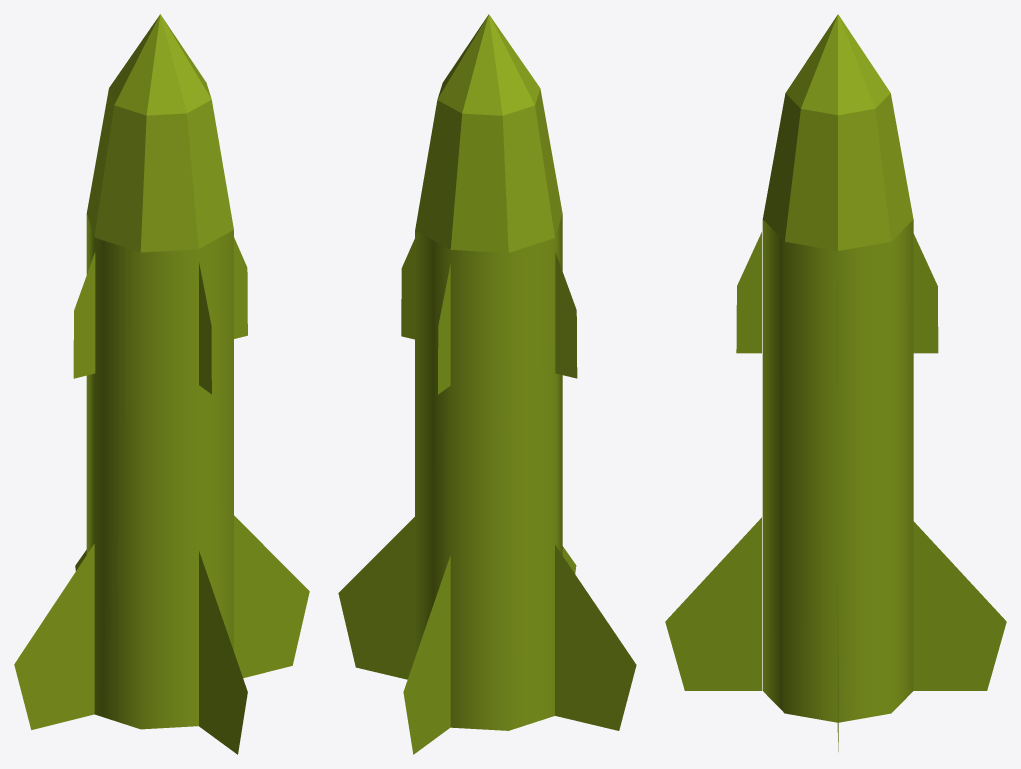
Rendered from Rocket_AP.obj.
The picture shows the model from 3 angles, left to right: view 1: azimuth 30°, elevation 25°; view 2: azimuth 150°, elevation 25°; view 3: azimuth 270°, elevation 25°; orthographic projection.
Parts seen in each view (by area): view 1: Cylinder02; view 2: Cylinder02; view 3: Cylinder02.
Boxes of the visible parts, box(x1,y1,x2,y2) form: Cylinder02: box(14, 14, 309, 754); Cylinder02: box(338, 14, 636, 754); Cylinder02: box(665, 14, 1006, 751).
Size of the model in its own units: 95.52 by 211 by 96.32.
